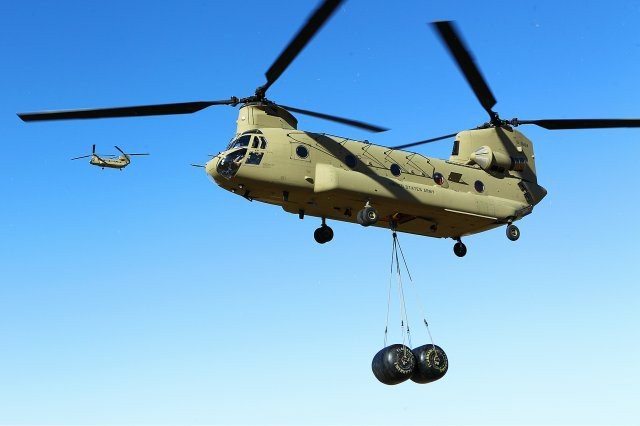chinook: (153, 9, 619, 255), (79, 139, 149, 172)
